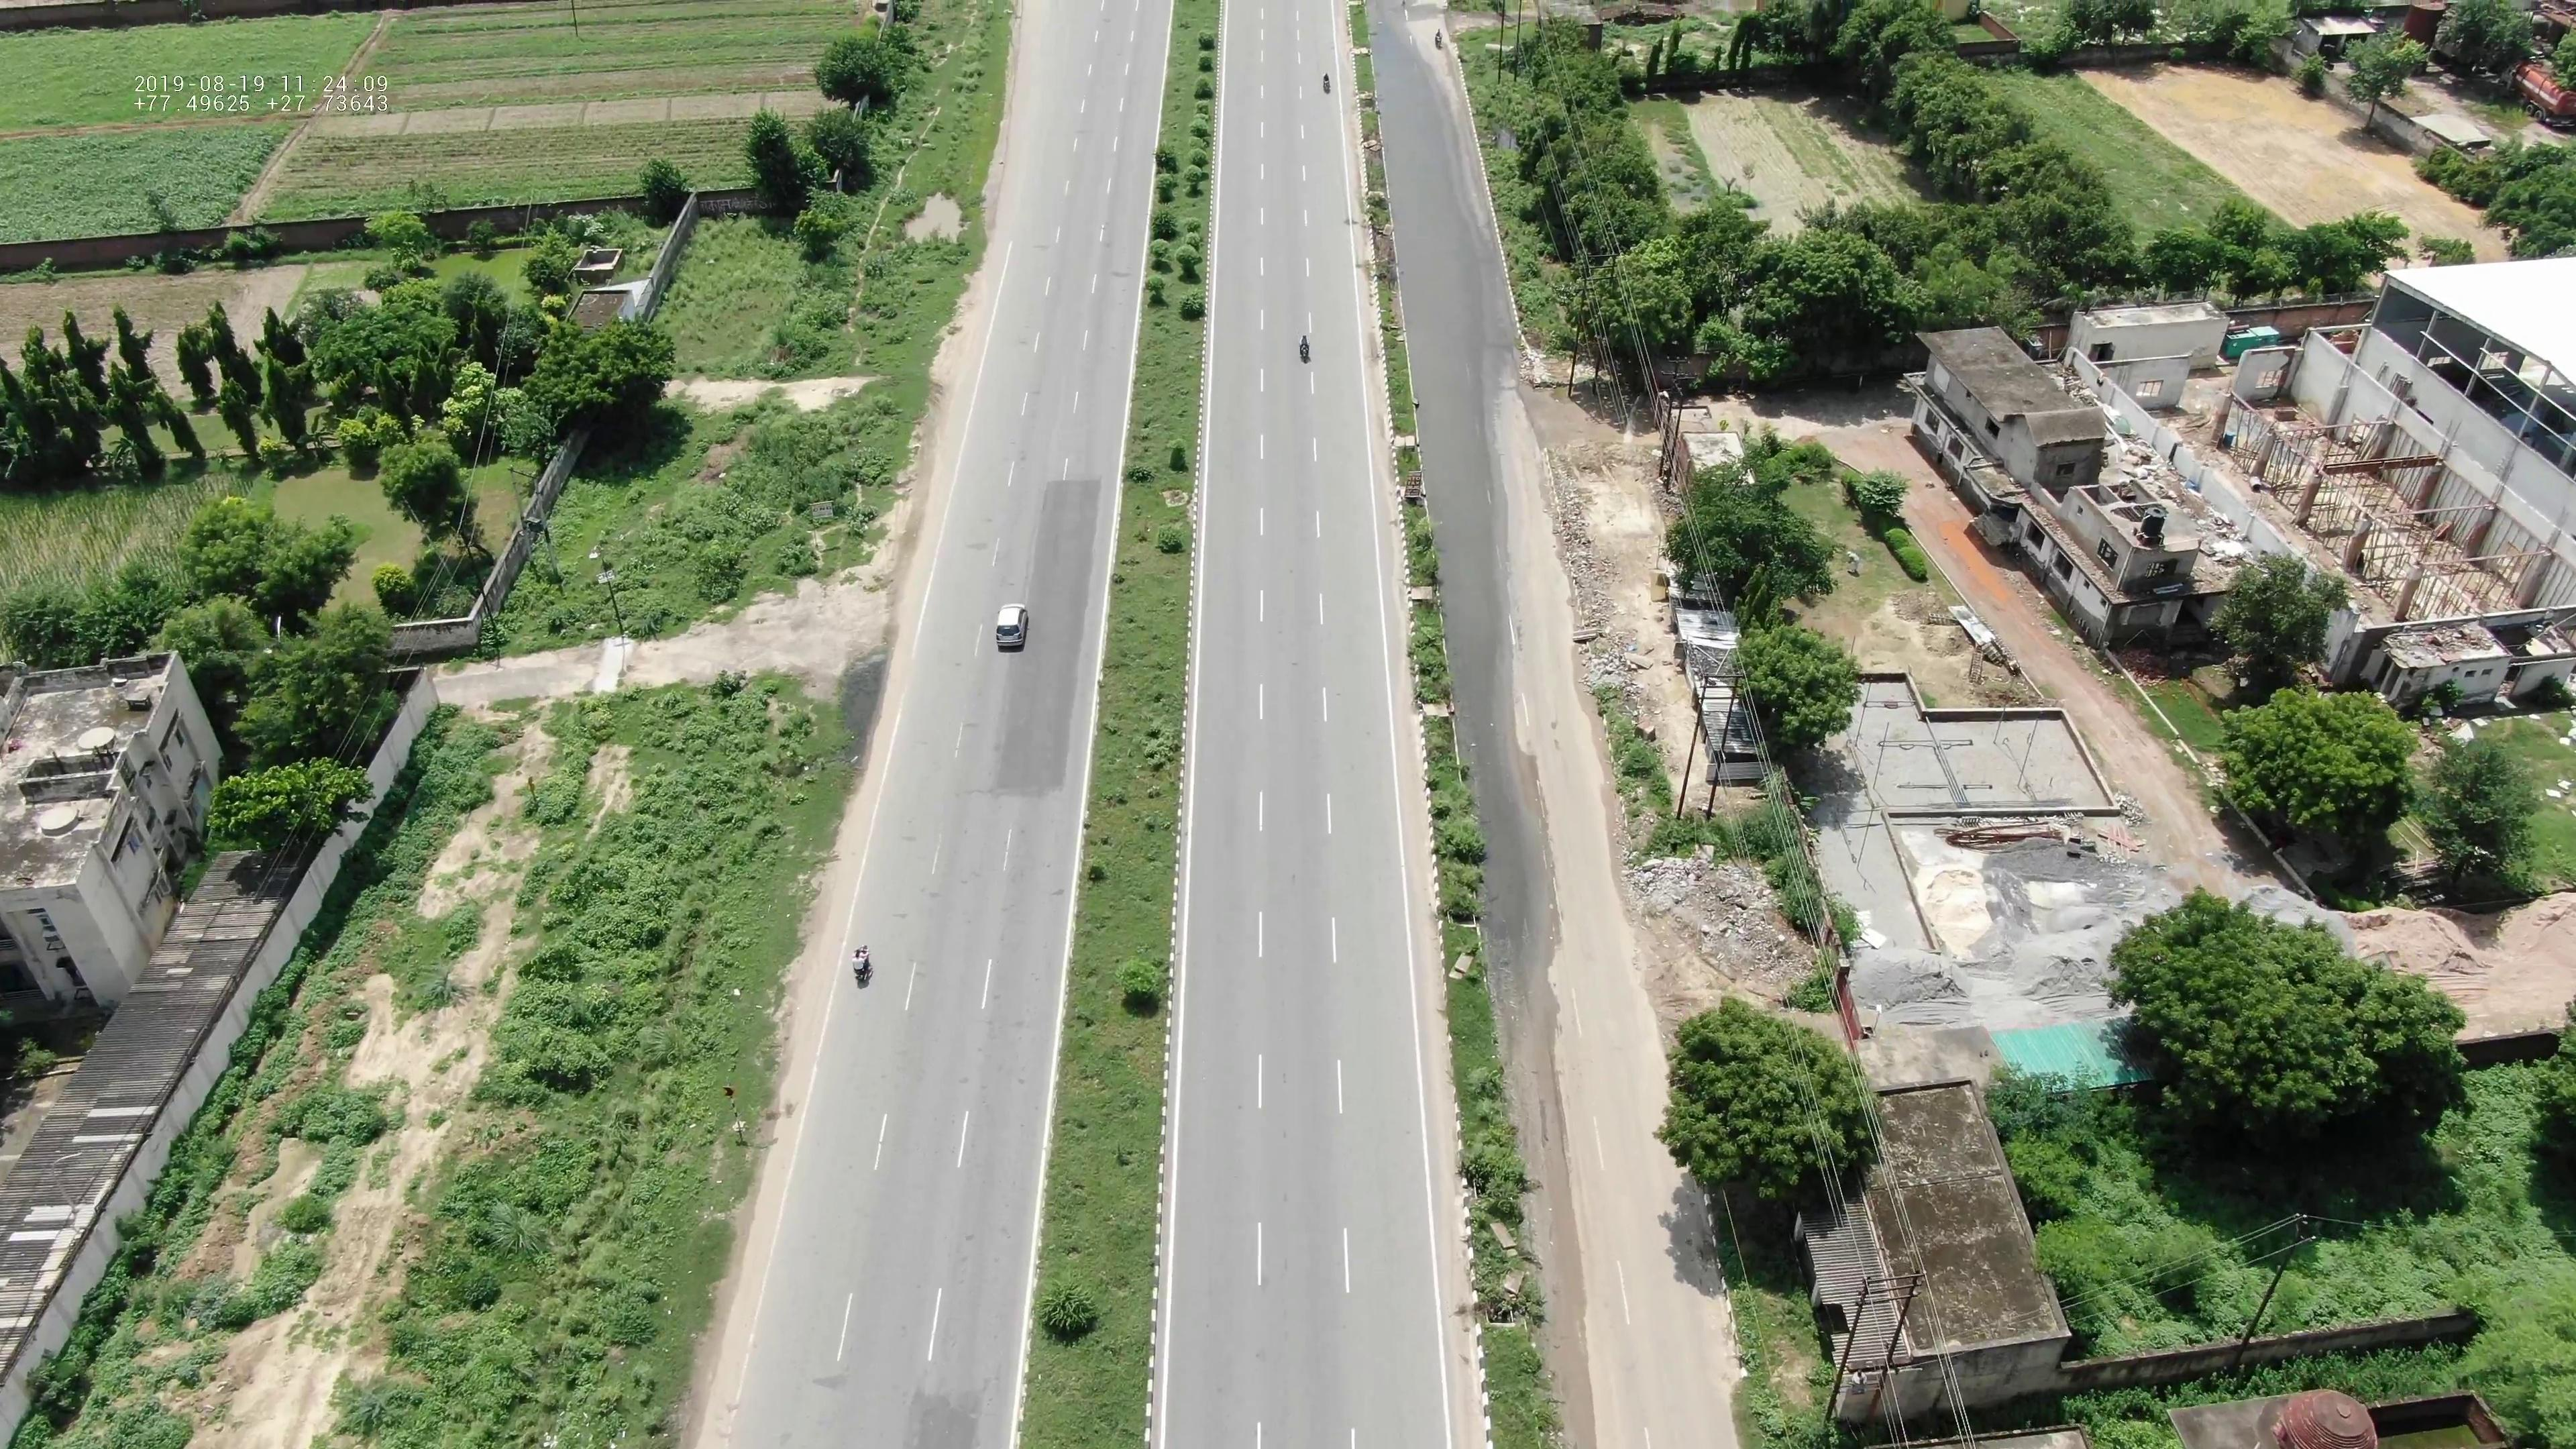Waterlogging: (1398, 58, 1555, 968)
